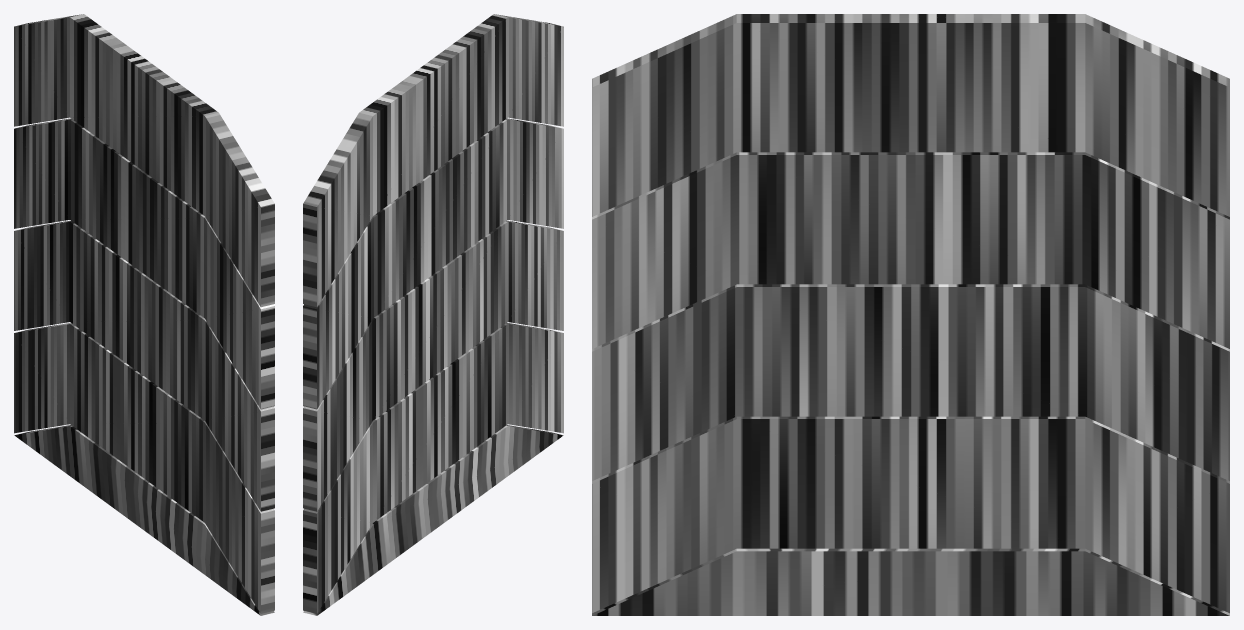
The model's file is garage door.fbx.
3 renders of one model, left to right at view 1: azimuth 30°, elevation 25°; view 2: azimuth 150°, elevation 25°; view 3: azimuth 270°, elevation 25°, orthographic. The views are drawn at different scales.
Visible parts, largest first — view 1: Plane.003; view 2: Plane.003; view 3: Plane.003.
Part boxes in pixels (x1,y1,x2,y2): Plane.003: (14,14,274,615); Plane.003: (303,14,563,615); Plane.003: (592,14,1229,615).
Bounding box in the file's own units: 12 × 376 × 366.
